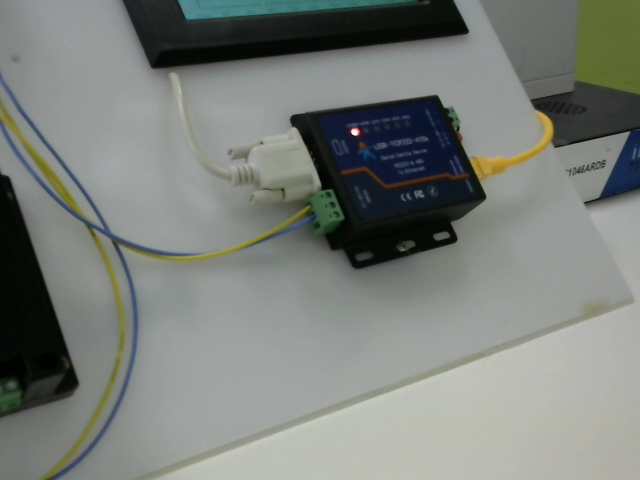termperature: (279, 84, 488, 284)
